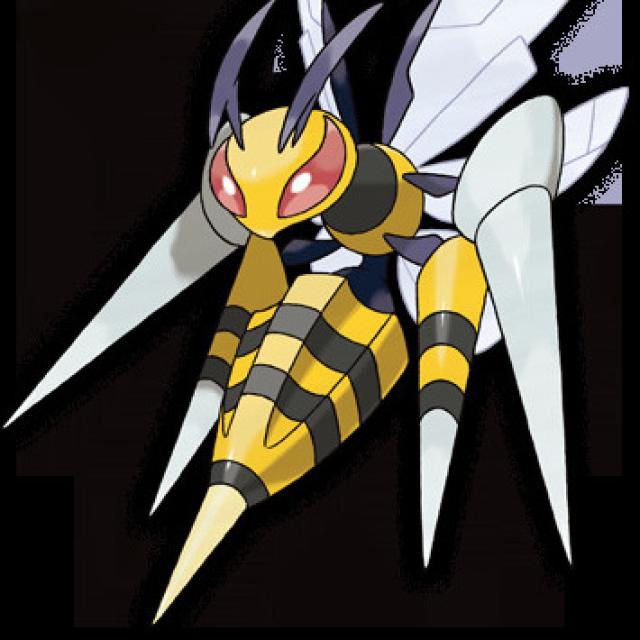Beedrill: (128, 0, 559, 530)
